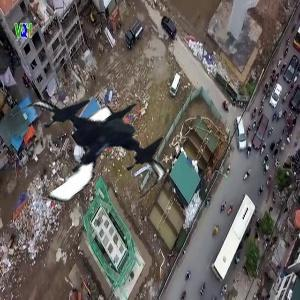drone: (8, 72, 167, 231)
